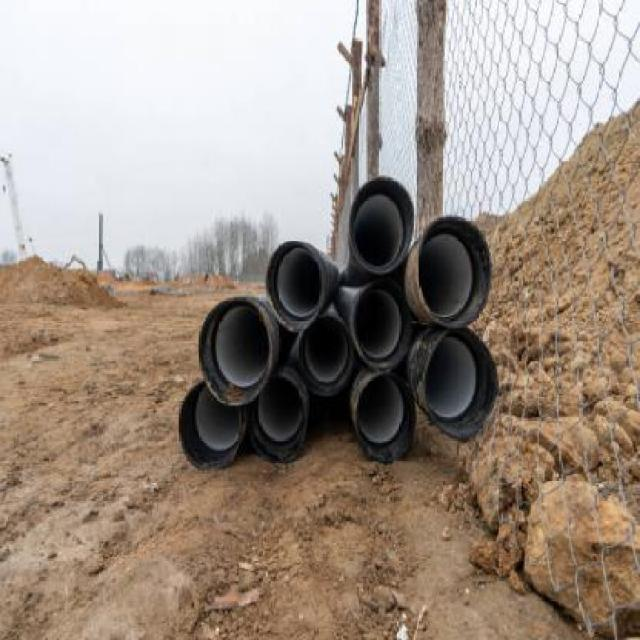pipe: (425, 326, 499, 440), (418, 216, 491, 327), (198, 297, 271, 406), (349, 175, 414, 274), (354, 374, 416, 462), (179, 383, 242, 469), (265, 240, 323, 333), (353, 280, 411, 371), (251, 374, 306, 463), (299, 314, 353, 396)
